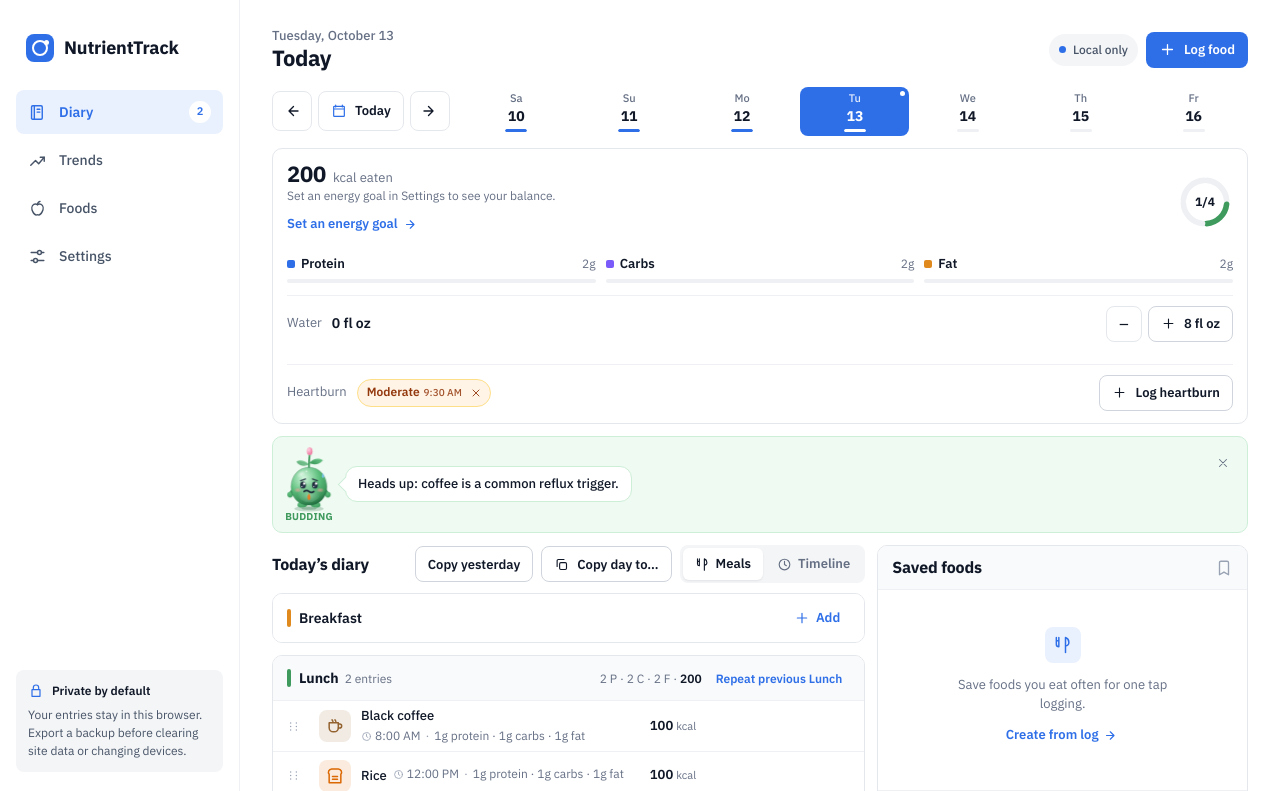
Test: trigger finder on Trends › names_the_trigger_that_comes_before_flares
Click the button "Trends".
click(120, 160)  # box x1=16 y1=138 x2=223 y2=182
(page scrolled)
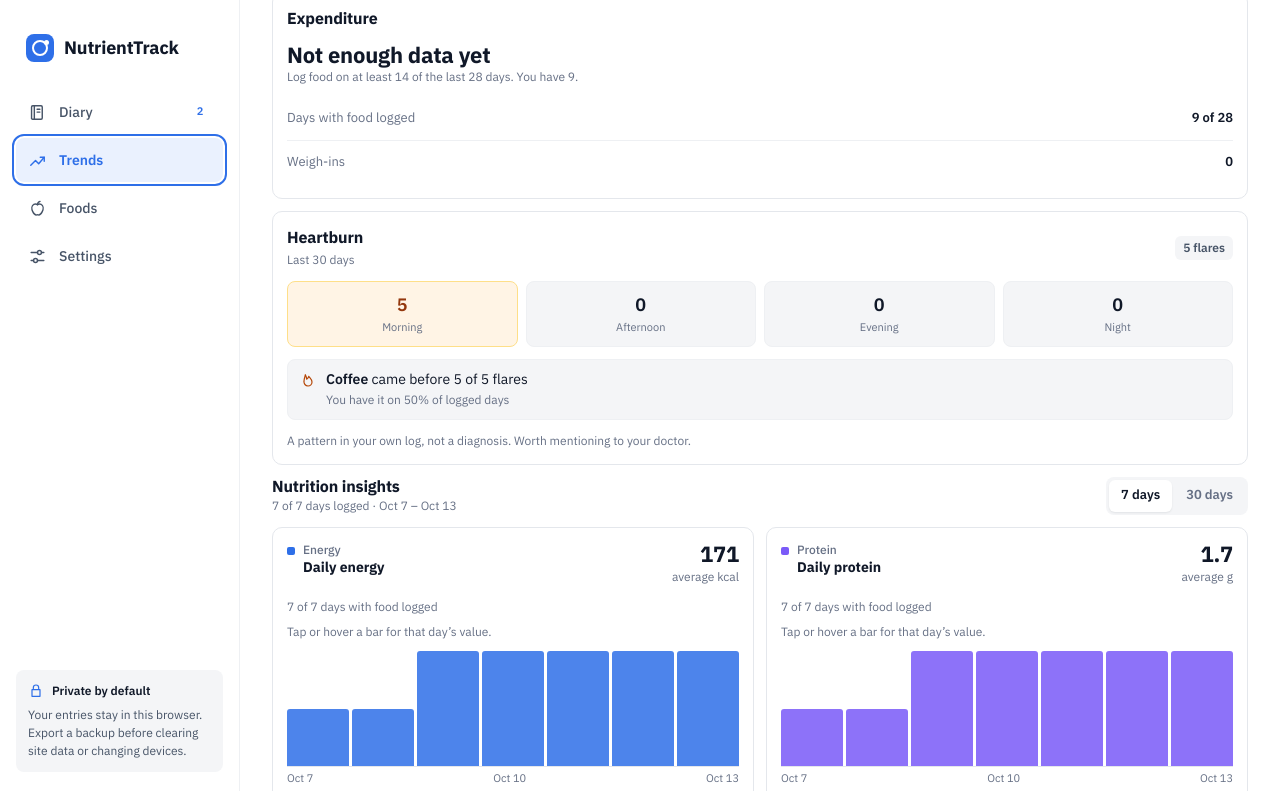
Expected: the text "Rice" is not shown
Expected: the list item "Coffee" shows "came before 5 of 5 flares", x1=287 y1=359 x2=1233 y2=420
Expected: the text "You have it on 50% of logged days" is shown, x1=326 y1=392 x2=528 y2=409
